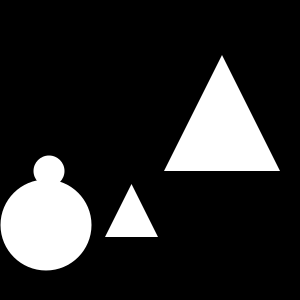rectangle: (0, 180, 92, 270), (34, 156, 64, 186)
triangle: (164, 55, 280, 171), (105, 184, 158, 237)
